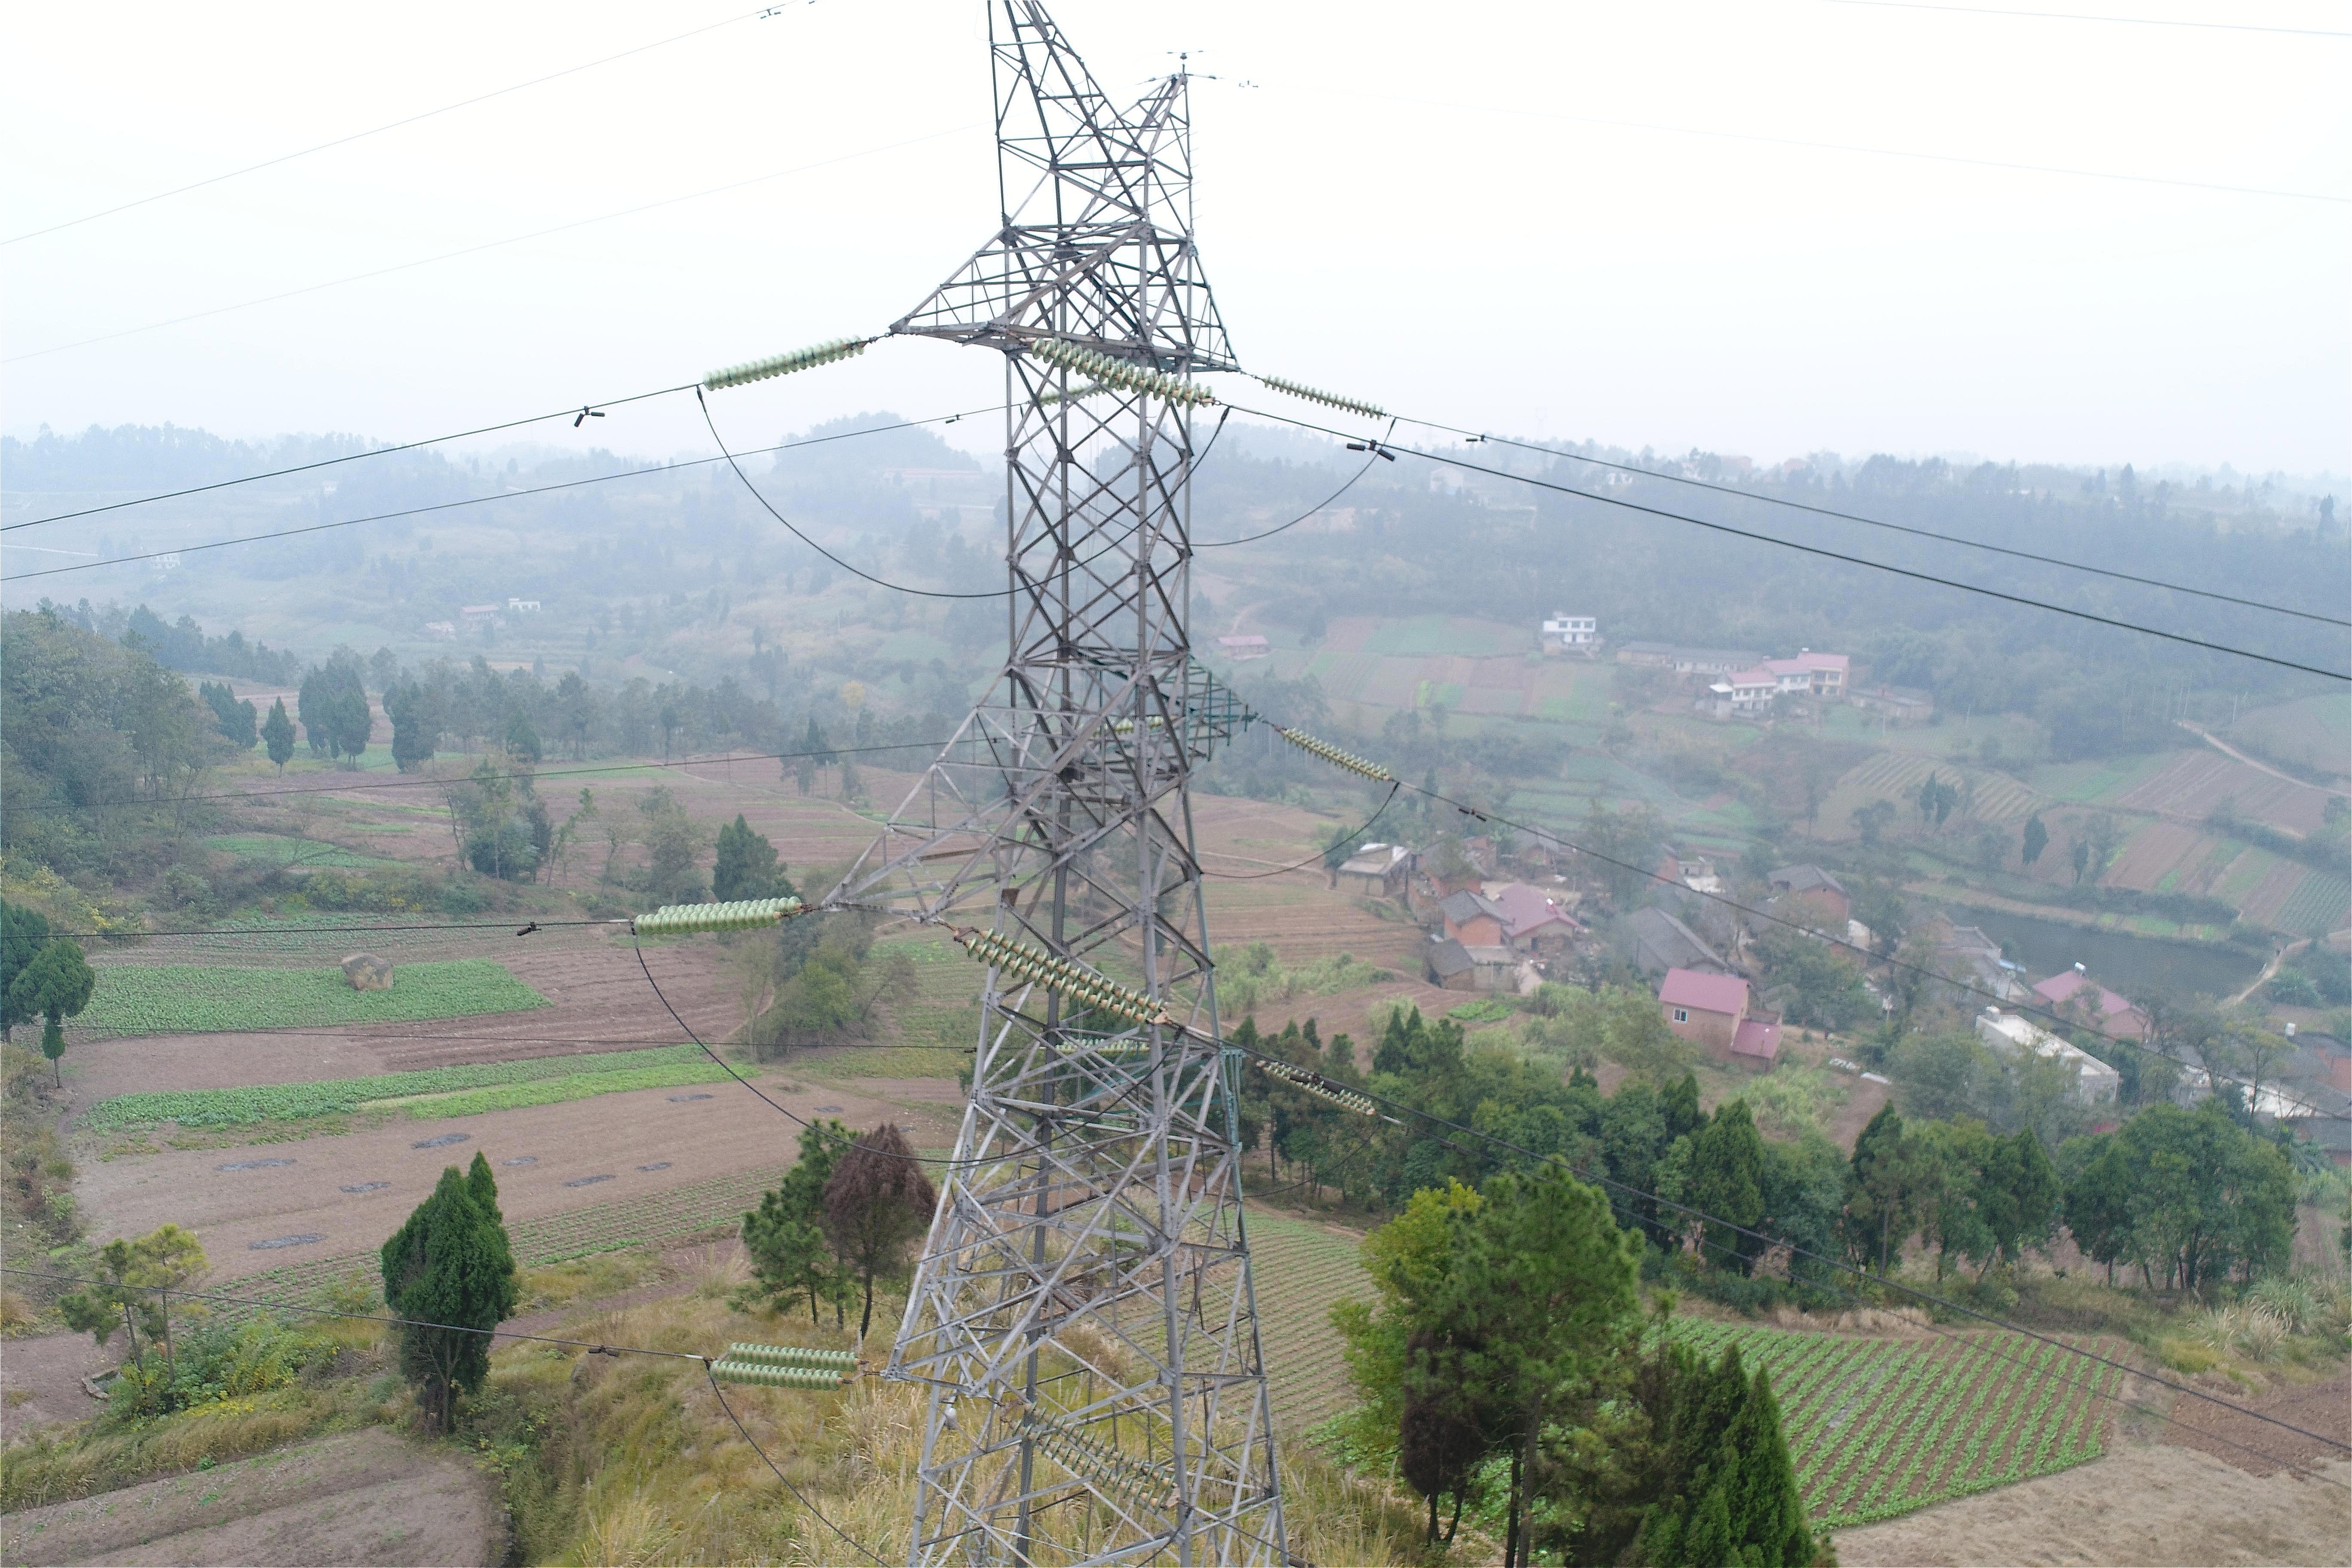insultor3: (950, 922, 1185, 1034), (1018, 325, 1227, 416), (1020, 1400, 1167, 1507), (689, 308, 850, 404), (623, 877, 807, 941), (1258, 1053, 1395, 1139), (1272, 719, 1391, 791), (1260, 369, 1407, 416), (710, 1344, 854, 1388)
